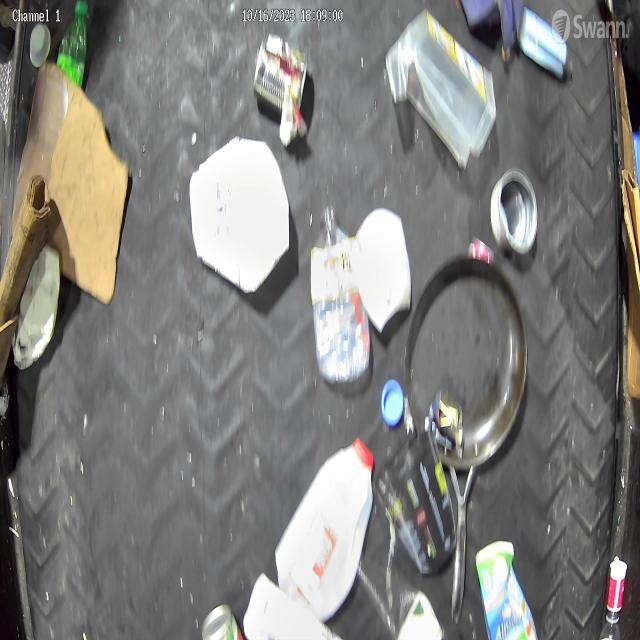can: (252, 30, 306, 110), (490, 167, 538, 257)
milk_jug: (272, 438, 376, 616), (188, 136, 288, 300)
plastic_bottle: (310, 198, 370, 376)
